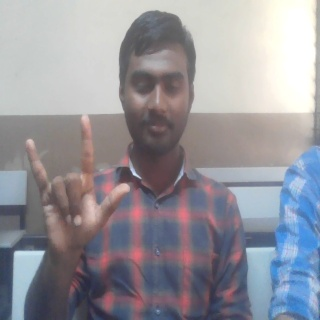Face: (116, 8, 199, 160)
I Love You: (23, 112, 133, 255)
